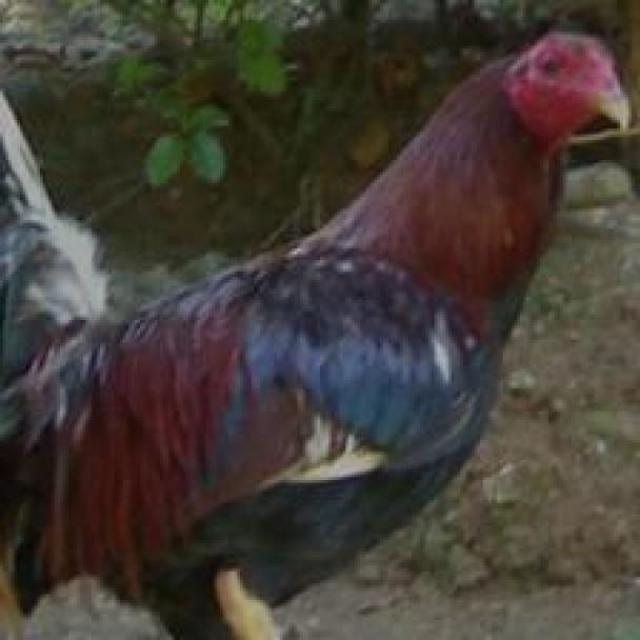Chicken: (0, 36, 640, 601)
